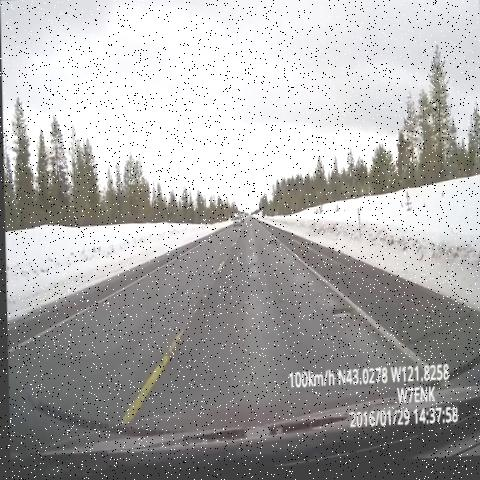pothole: (323, 307, 354, 329), (262, 235, 276, 256)
